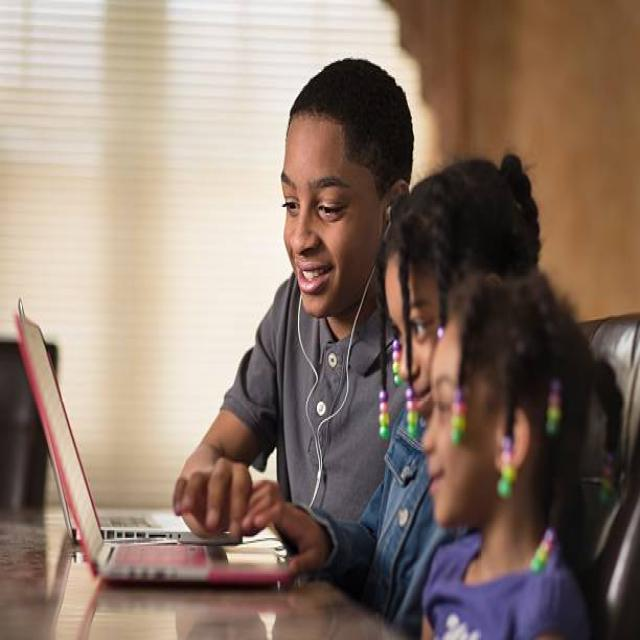Earphone: (298, 197, 393, 512)
